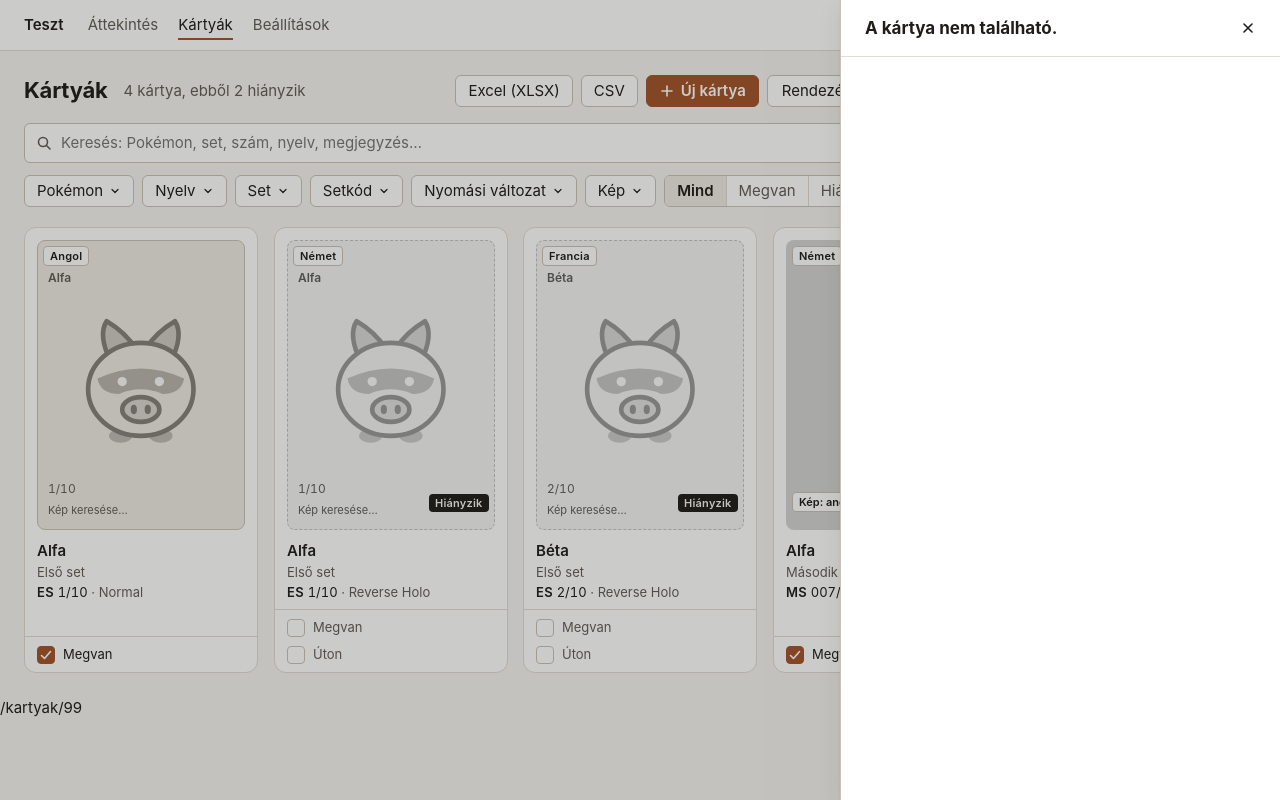
részletek panel (S-10/EF4) › nem létező kártya
This screenshot has width=1280, height=800.
Expected: the heading "A kártya nem található." is shown, top-left (865, 16), bottom-right (1057, 40)
Click the button named "Bezárás" at (1248, 28), box top-left (1232, 12), bottom-right (1264, 44)
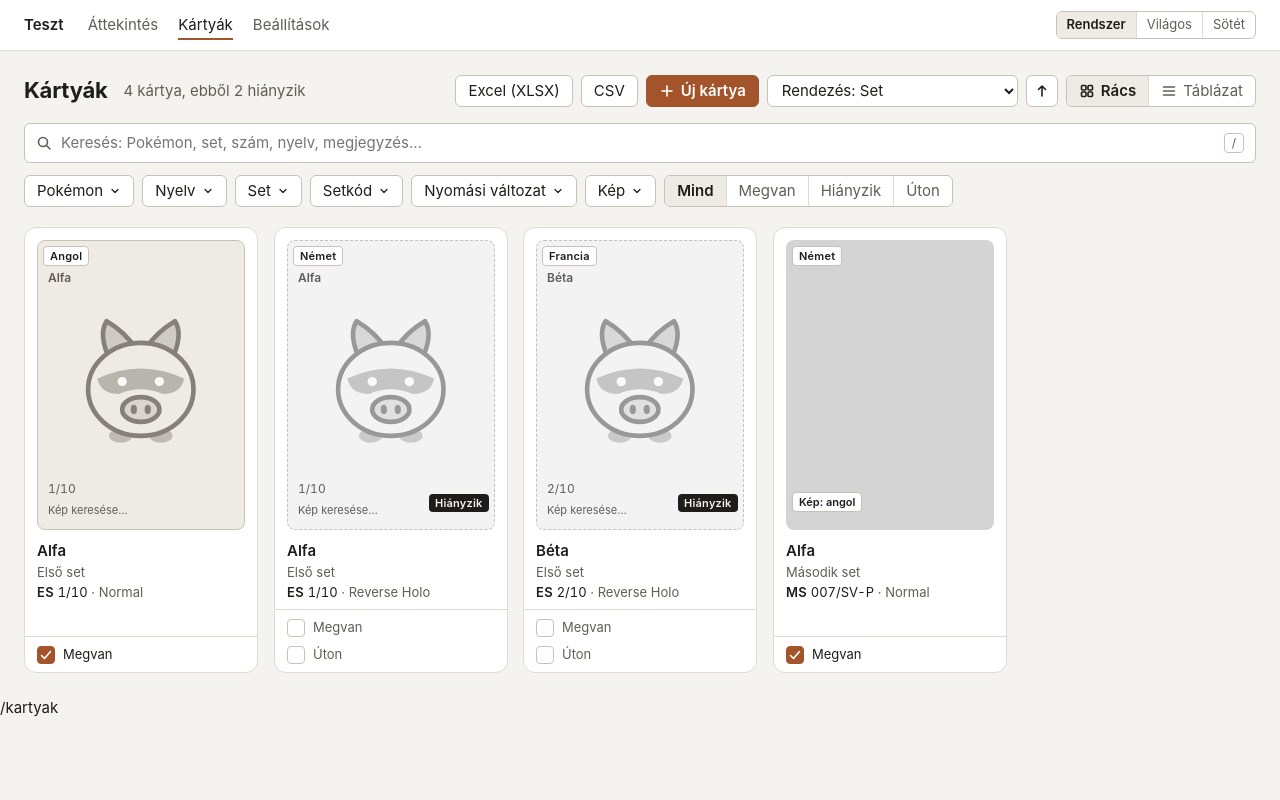
Now the text with test id "location" reads "/kartyak", box top-left (0, 698), bottom-right (58, 717)
